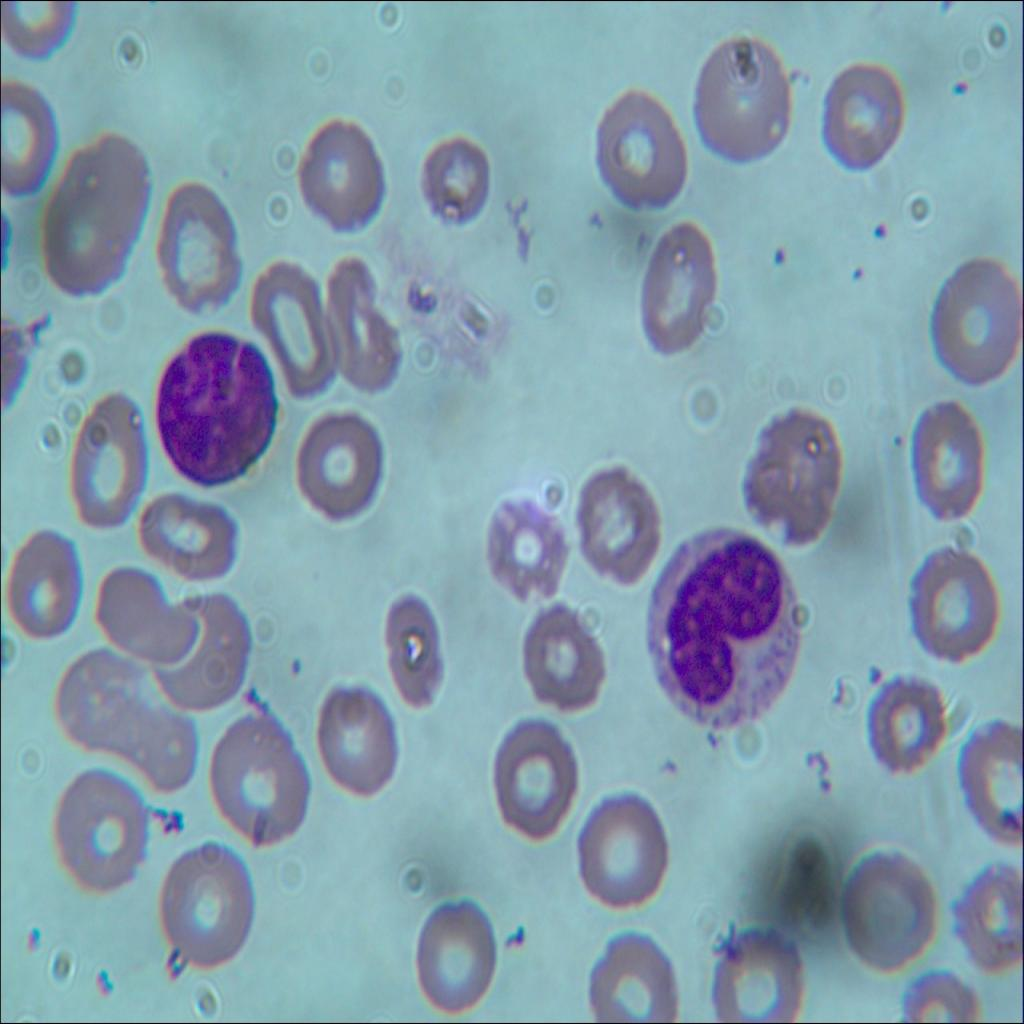Eritrosit: (732, 402, 838, 552), (623, 207, 722, 360), (694, 35, 795, 175), (246, 260, 342, 402), (52, 767, 154, 900), (213, 711, 309, 848), (588, 86, 691, 212), (321, 260, 410, 404), (926, 248, 1023, 378), (154, 178, 243, 317), (406, 882, 498, 1015), (573, 458, 663, 586), (158, 845, 251, 967), (98, 565, 203, 672), (68, 394, 146, 538), (300, 112, 386, 239), (494, 718, 580, 844), (476, 491, 569, 607), (841, 854, 936, 966), (371, 580, 448, 717), (295, 412, 389, 524), (578, 798, 670, 912), (314, 678, 399, 801), (816, 61, 904, 178), (578, 928, 686, 1023), (164, 598, 255, 710), (908, 548, 995, 664), (130, 491, 242, 581), (526, 598, 611, 714), (949, 719, 1023, 852), (108, 690, 199, 798), (4, 527, 83, 647), (862, 674, 954, 776), (906, 398, 981, 517), (711, 928, 801, 1023), (59, 651, 136, 752), (0, 81, 58, 210), (959, 865, 1023, 977), (418, 131, 492, 221), (0, 0, 78, 61)
Limfoblast: (146, 328, 278, 488)
Neutrofil: (646, 528, 806, 741)
Platelet: (866, 208, 894, 251), (278, 648, 308, 680), (846, 254, 869, 292), (884, 424, 908, 458), (946, 71, 976, 98), (766, 241, 791, 272)
